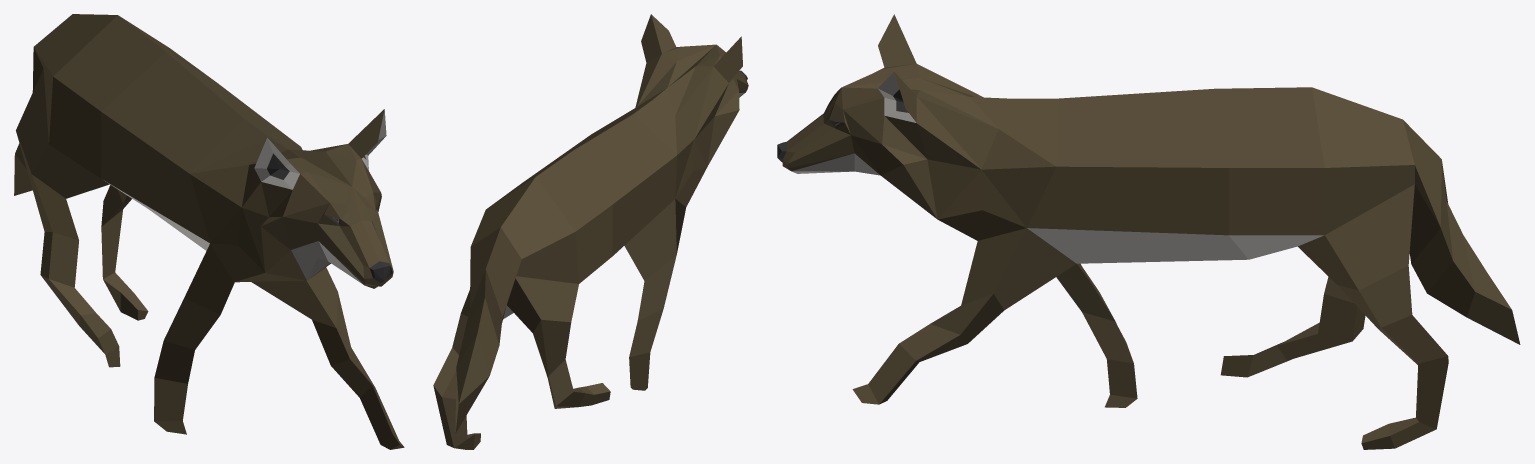
File: wolf_colored.fbx
The picture shows the model from 3 angles, left to right: view 1: azimuth 30°, elevation 25°; view 2: azimuth 150°, elevation 25°; view 3: azimuth 270°, elevation 25°; orthographic projection. The views are drawn at different scales.
Parts seen in each view (by area): view 1: Cube; view 2: Cube; view 3: Cube.
Part boxes in pixels (bbox=[...]): Cube: bbox=[14, 14, 404, 449]; Cube: bbox=[433, 14, 748, 449]; Cube: bbox=[777, 14, 1520, 449].
Bounding box in the file's own units: 227 × 623 × 1099.
